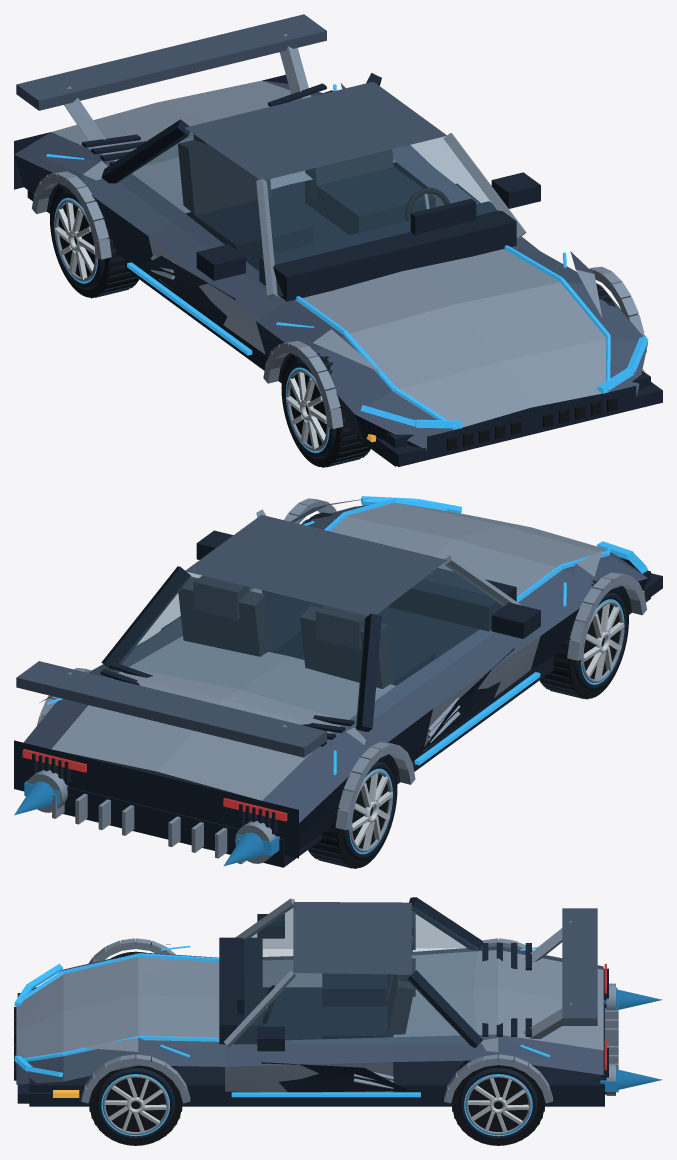
File: vehicle.glb
3 views of the same model, one above another, from view 1: azimuth 30°, elevation 25°; view 2: azimuth 150°, elevation 25°; view 3: azimuth 270°, elevation 25° (orthographic). The views are drawn at different scales.
Bounding box in the file's own units: 2.25 × 1.32 × 4.94.
